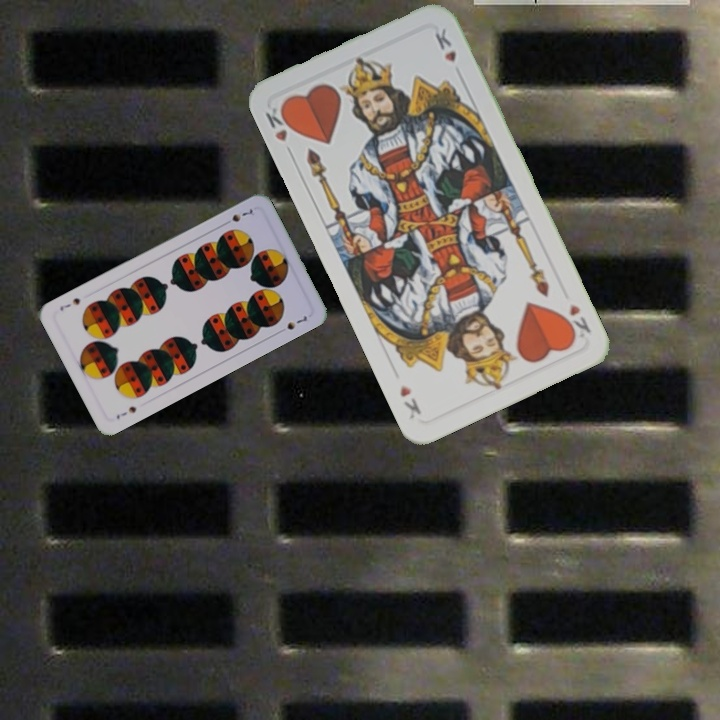HK: (261, 101, 298, 159), (559, 300, 594, 345)
S7: (219, 205, 255, 228), (112, 402, 139, 422)
